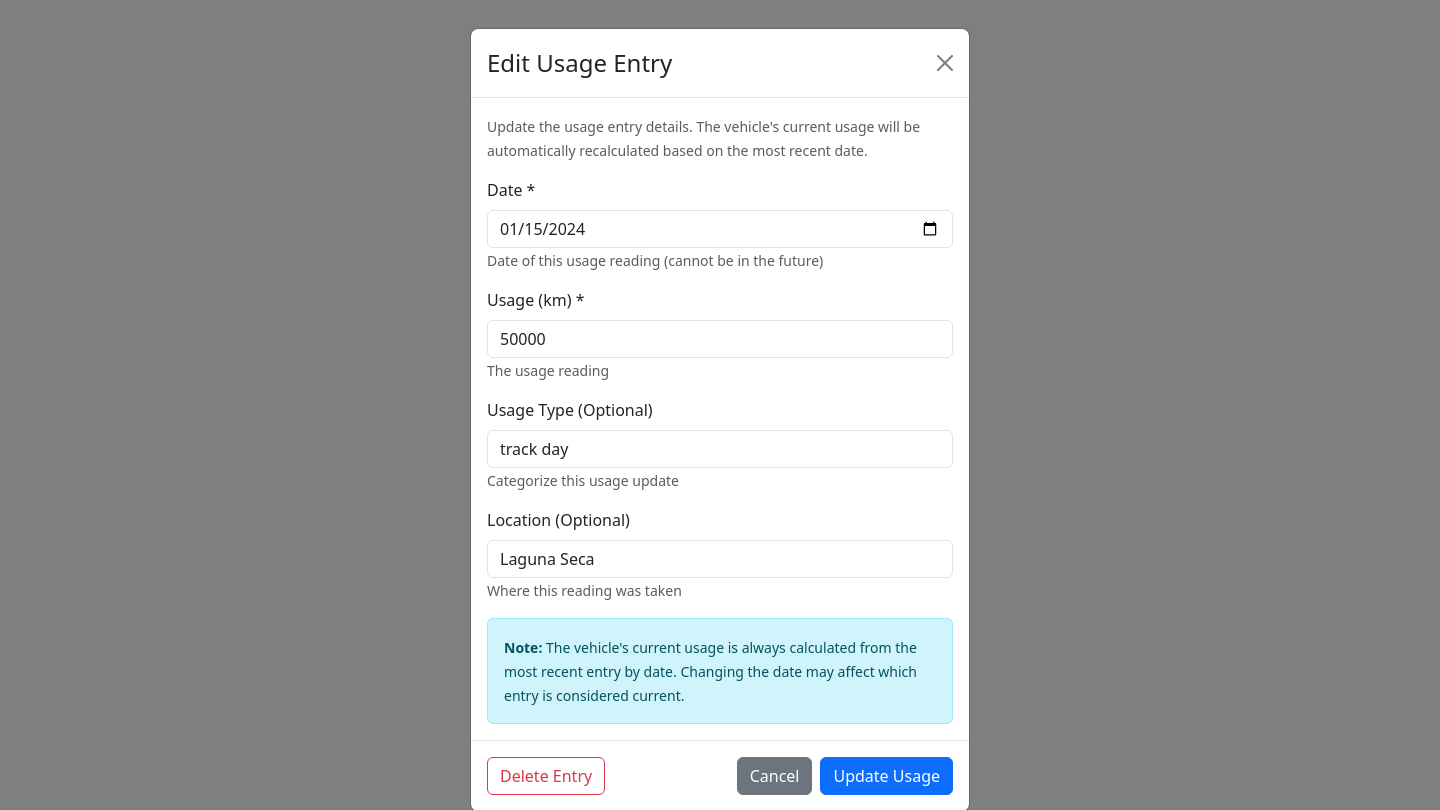
Test: EditUsageModal › should show error when submitting empty usage
The image size is (1440, 810).
Clear the number field labelled "Usage (km) *". click: (720, 339)
box: [487, 320, 953, 358]
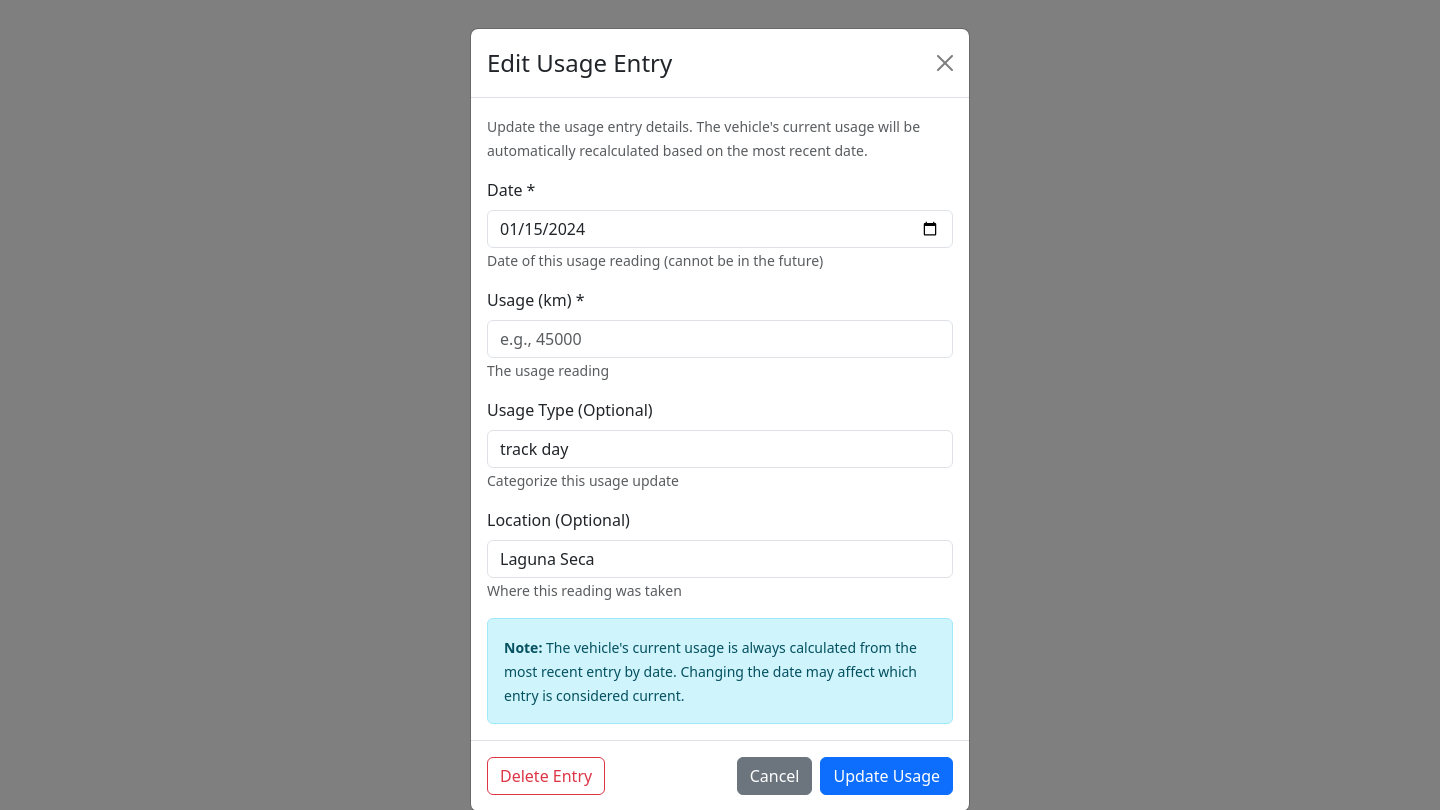
Submit form directly to bypass HTML5 validation
Submit the form, box [471, 98, 969, 809]
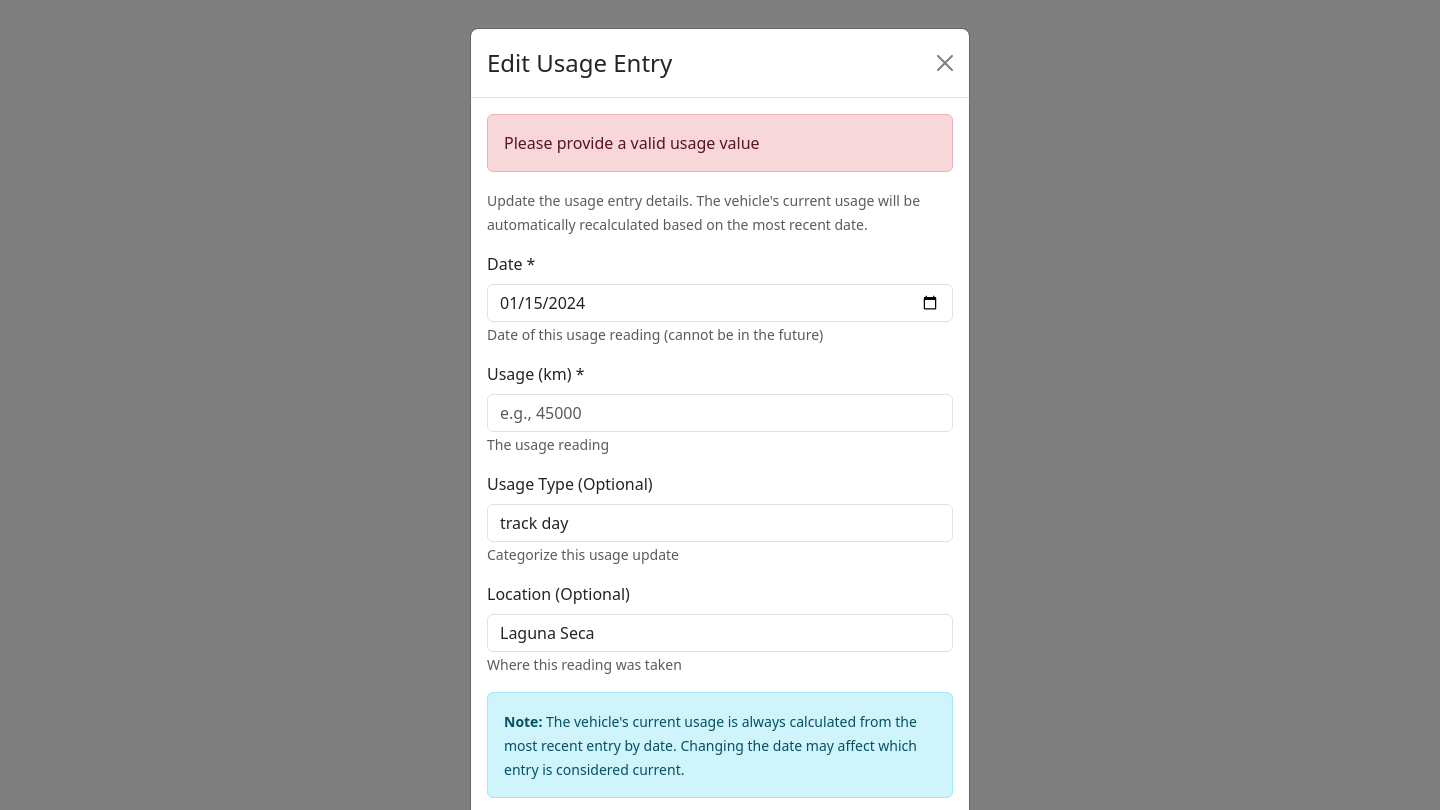
Expected: the text "Please provide a valid usage value" is shown, [487, 114, 953, 172]
